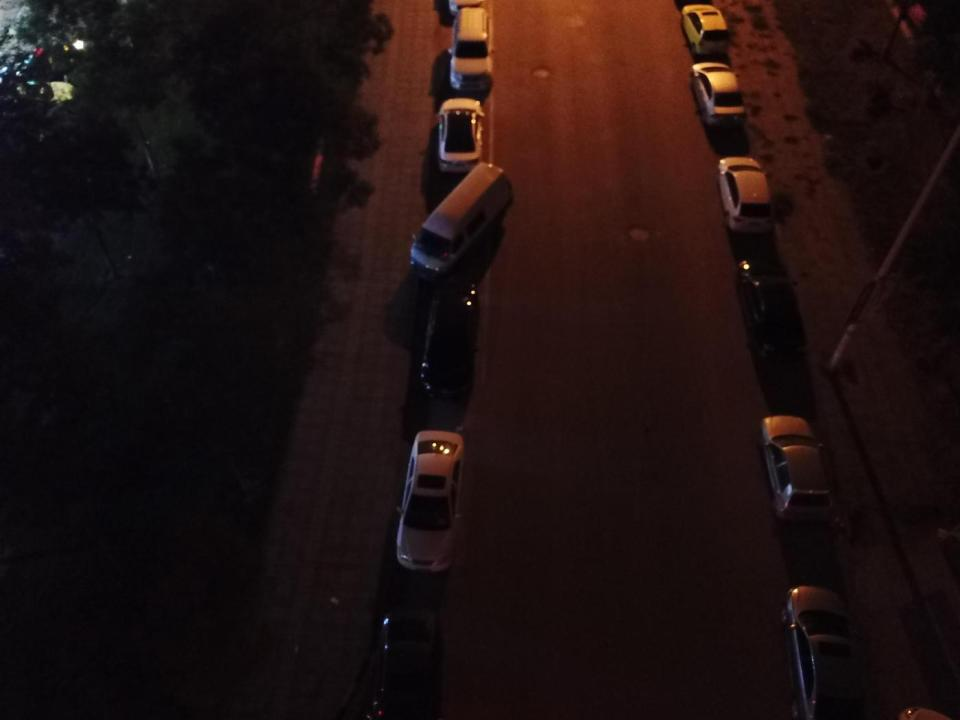car: (779, 584, 864, 720), (395, 429, 466, 573), (363, 605, 443, 720), (757, 415, 834, 522), (735, 258, 809, 359), (421, 280, 480, 398), (715, 155, 774, 234), (447, 6, 497, 91), (436, 98, 486, 174), (690, 61, 746, 128), (680, 3, 730, 56)
van: (409, 162, 515, 281)
